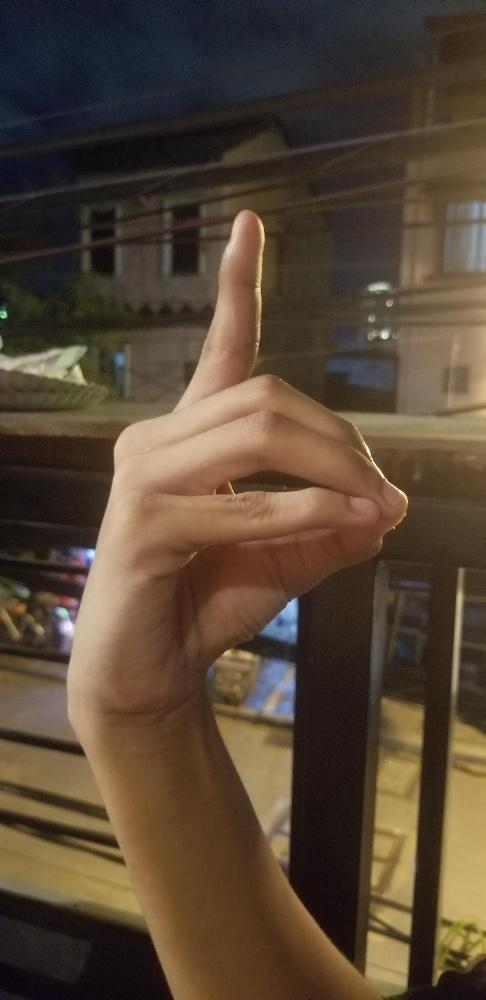d: (63, 207, 407, 702)
